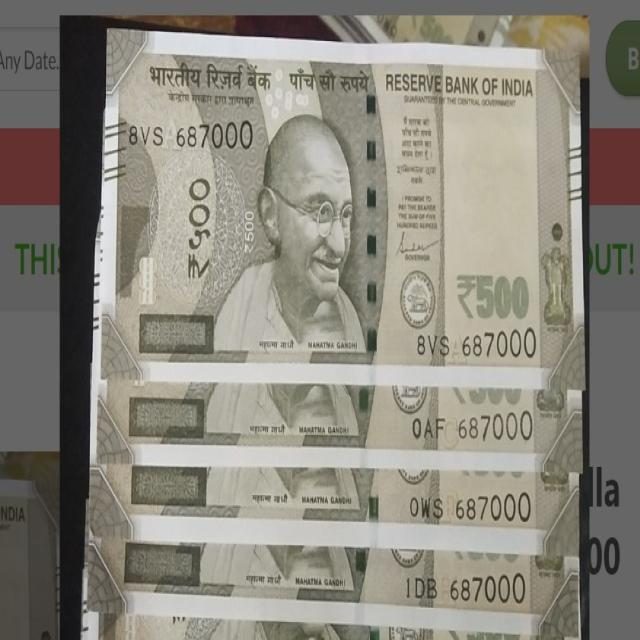500IndianRupees: (86, 29, 586, 384)
